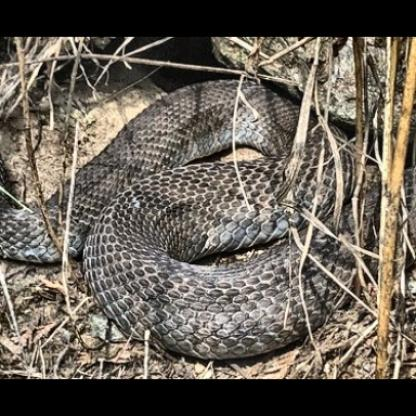Snake: (24, 67, 330, 364), (0, 122, 57, 299)
